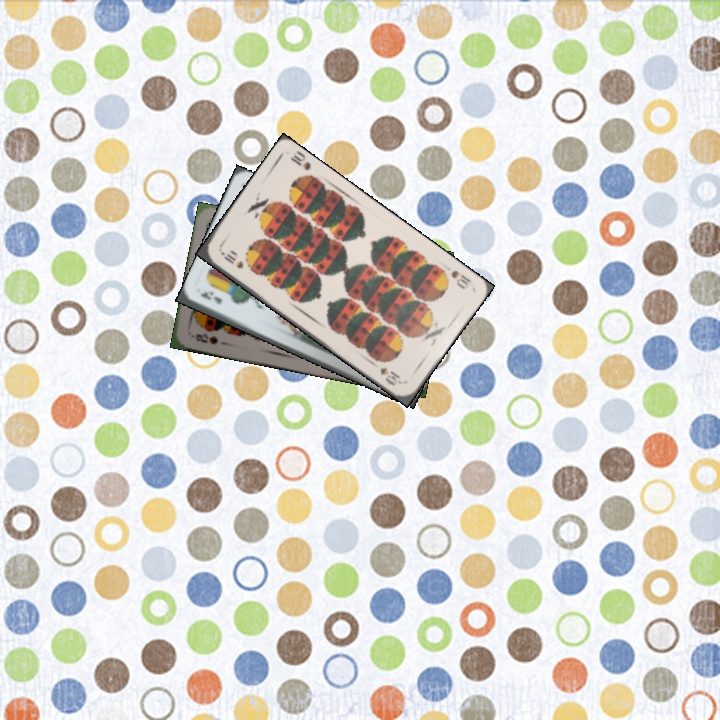EK: (196, 288, 225, 307)
S10: (447, 266, 474, 292), (217, 247, 246, 271)
S8: (187, 329, 221, 347)
